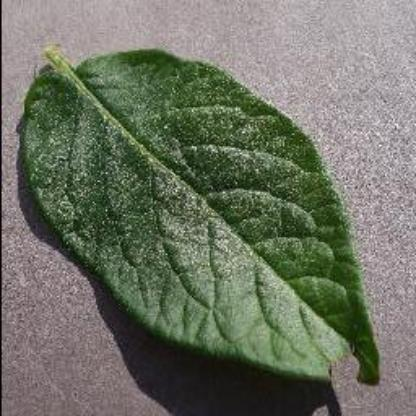Healthy-plant: (24, 34, 396, 398)
